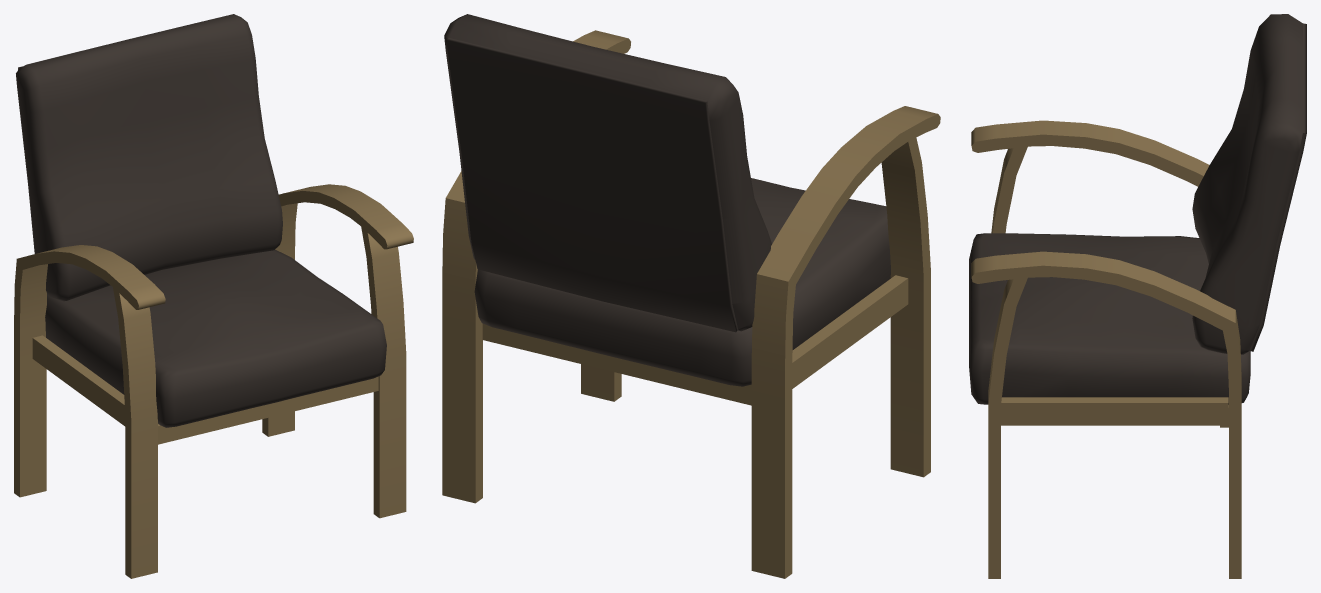
The model's file is Chair_01.fbx.
The picture shows the model from 3 angles, left to right: view 1: azimuth 30°, elevation 25°; view 2: azimuth 150°, elevation 25°; view 3: azimuth 270°, elevation 25°; orthographic projection. The views are drawn at different scales.
Visible parts, largest first — view 1: Chair_001; view 2: Chair_001; view 3: Chair_001.
Part boxes in pixels (left/top/right/bottom): Chair_001: left=14, top=14, right=413, bottom=578; Chair_001: left=442, top=14, right=940, bottom=578; Chair_001: left=969, top=14, right=1306, bottom=578.
Size of the model in its own units: 55.76 by 78.4 by 54.83.
2 materials, 1 textured.
